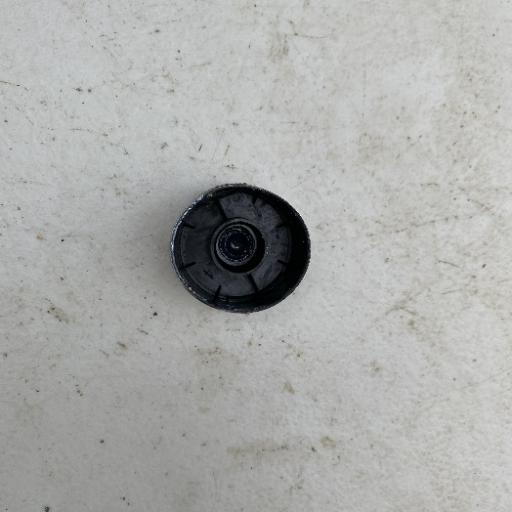Plastic: (167, 180, 312, 316)
